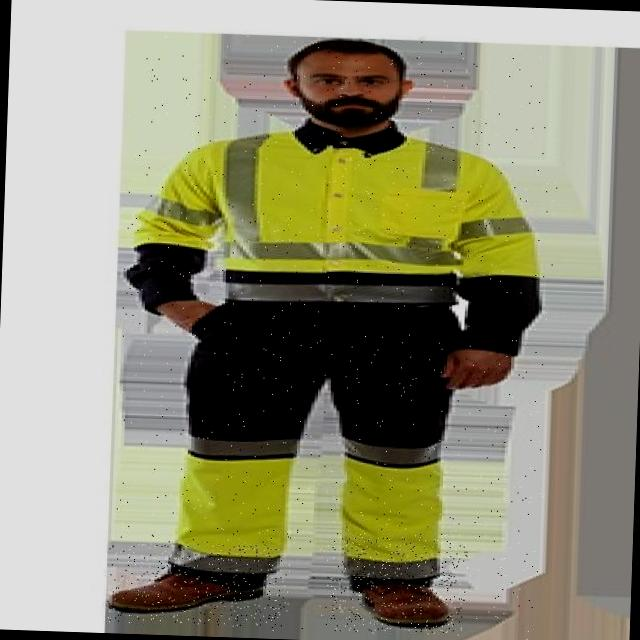boots: (106, 541, 290, 628), (329, 536, 468, 636)
no-gloves: (436, 340, 520, 402), (156, 292, 225, 335)
no-helmet: (274, 34, 416, 124)
vest: (184, 116, 559, 291)
